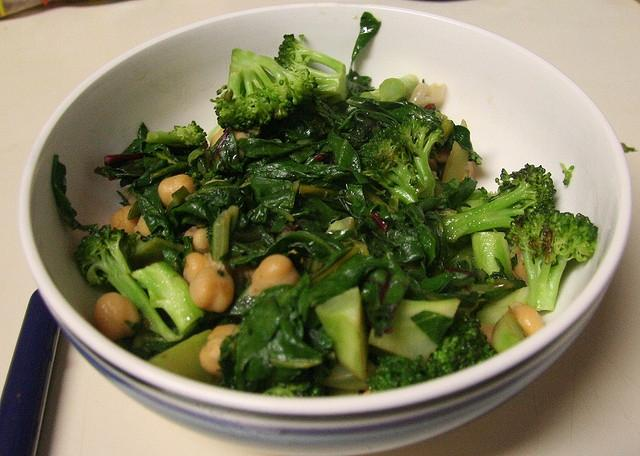broccoli: (74, 223, 182, 342), (504, 211, 598, 312), (442, 164, 557, 243), (368, 298, 460, 365), (130, 262, 208, 338), (274, 34, 348, 108), (425, 310, 498, 382), (314, 286, 368, 380), (262, 358, 336, 398), (366, 352, 438, 393), (471, 228, 514, 280), (144, 121, 208, 148)
